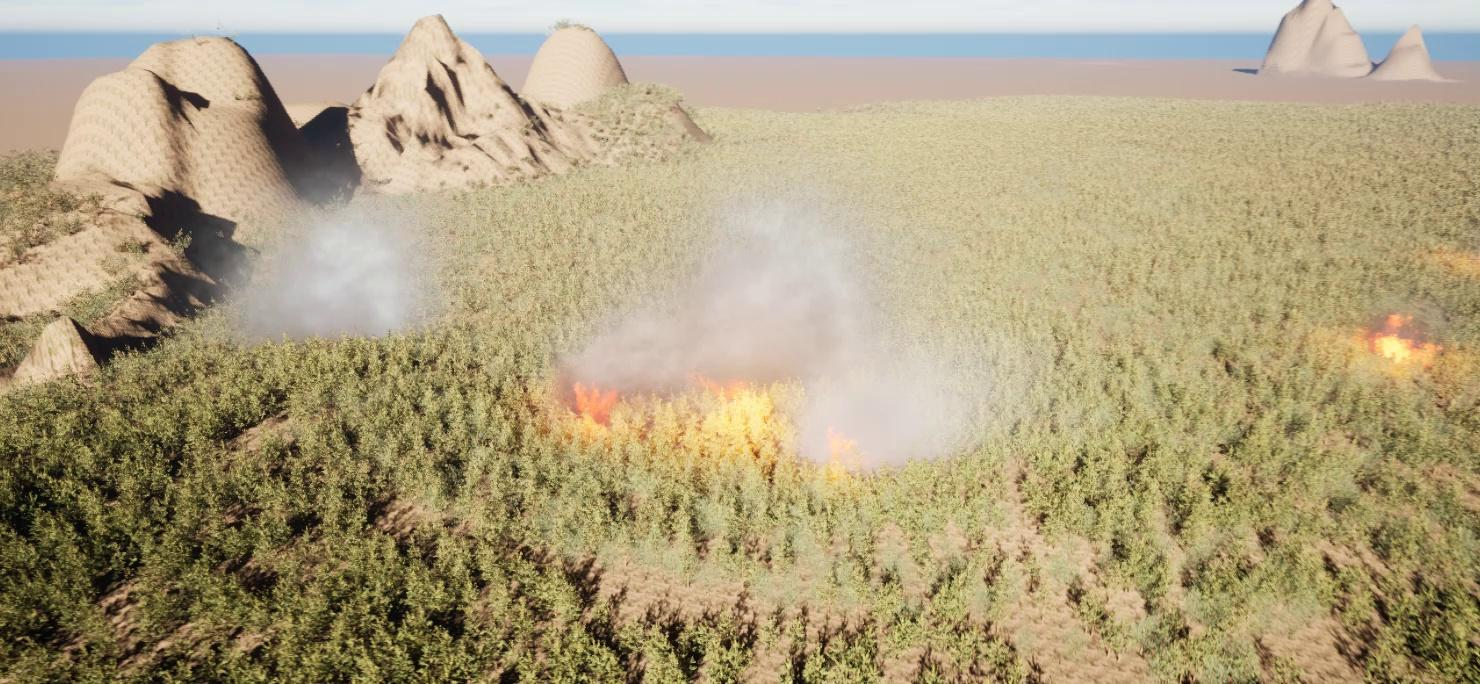fire: (692, 368, 795, 441), (562, 371, 631, 427), (1368, 306, 1433, 361), (828, 427, 865, 473)
smoke: (560, 185, 1057, 479), (194, 185, 444, 346)
